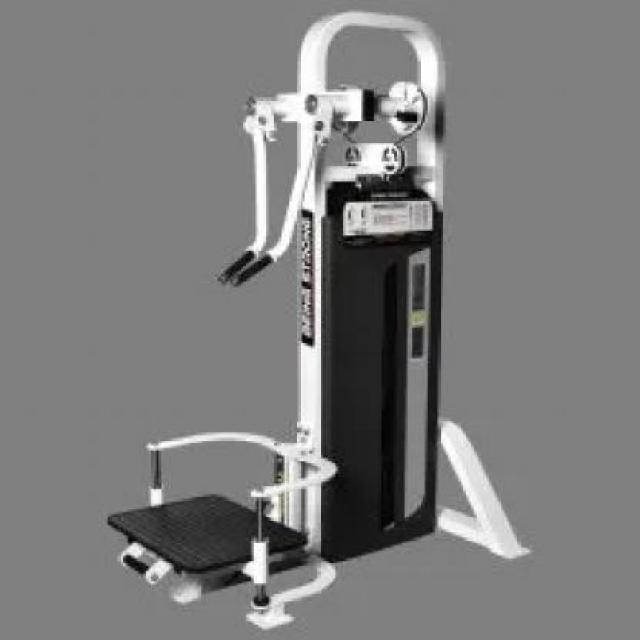lateral raises machine: (109, 11, 537, 629)
